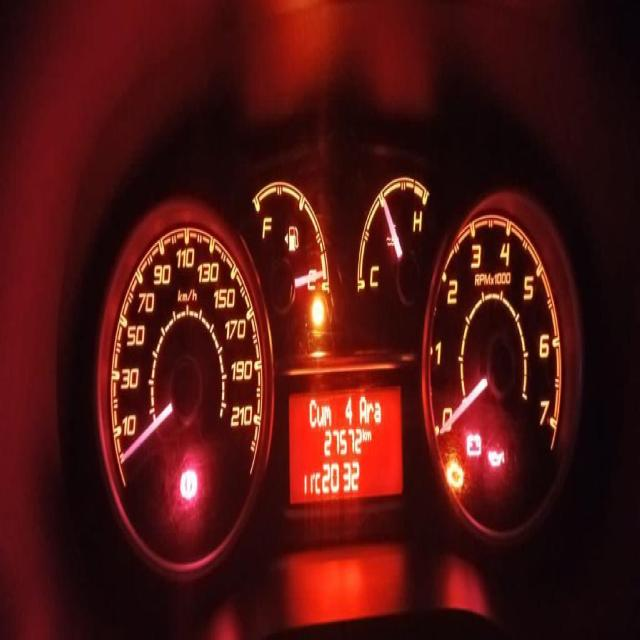odometer: (286, 379, 404, 508)
